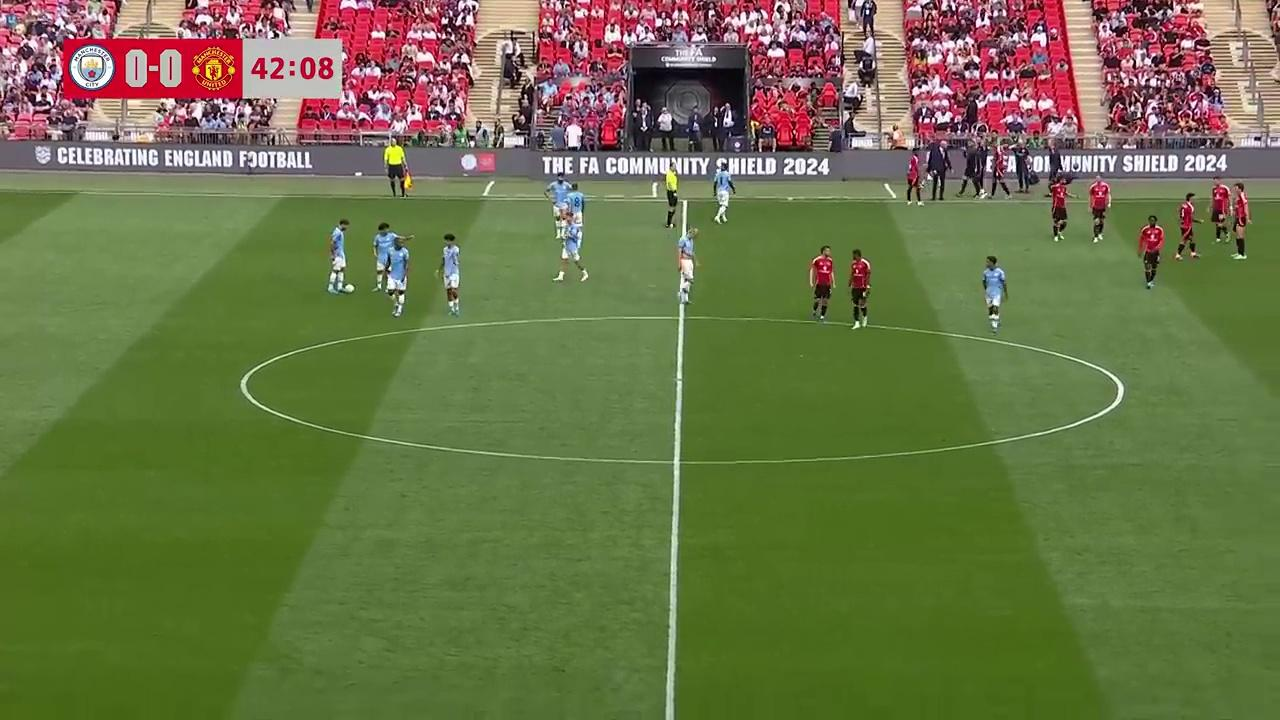ball: (345, 281, 354, 293)
player: (373, 222, 408, 312), (553, 207, 588, 282), (372, 221, 404, 296), (547, 180, 587, 238), (981, 255, 1008, 333), (808, 245, 835, 322), (1137, 215, 1164, 291), (675, 225, 700, 306), (386, 230, 409, 317), (436, 233, 460, 315), (326, 218, 351, 295), (848, 248, 871, 330), (1173, 193, 1200, 261), (1086, 174, 1111, 242), (1230, 183, 1251, 260), (1208, 179, 1231, 245), (547, 179, 572, 238), (957, 145, 983, 200), (1048, 177, 1069, 241), (712, 166, 735, 224), (905, 152, 924, 206)
referee: (384, 139, 412, 198), (663, 162, 680, 229)
